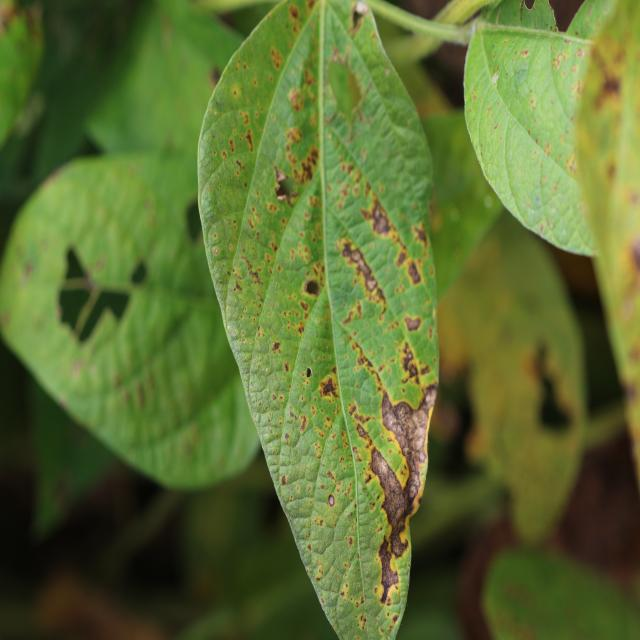Bacterial_Blight: (271, 276, 313, 345), (281, 118, 318, 192), (359, 194, 401, 246), (346, 333, 385, 386), (398, 339, 423, 381), (240, 253, 265, 289), (301, 267, 327, 301), (342, 299, 363, 325), (288, 86, 306, 112), (269, 44, 284, 72), (412, 224, 427, 250), (238, 110, 251, 130), (244, 128, 254, 152), (357, 613, 367, 631), (299, 413, 308, 432), (233, 280, 242, 294), (228, 137, 235, 153), (284, 362, 290, 374)
Soybean: (198, 0, 438, 638)
